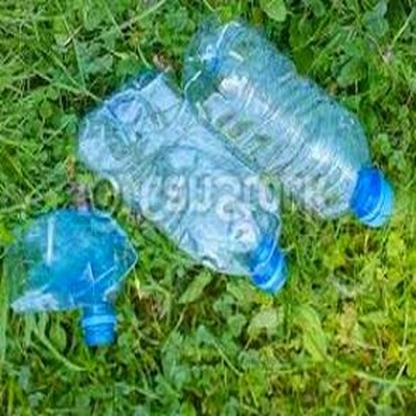plastic bottle: (80, 72, 289, 292), (181, 17, 394, 227), (7, 211, 137, 345)
